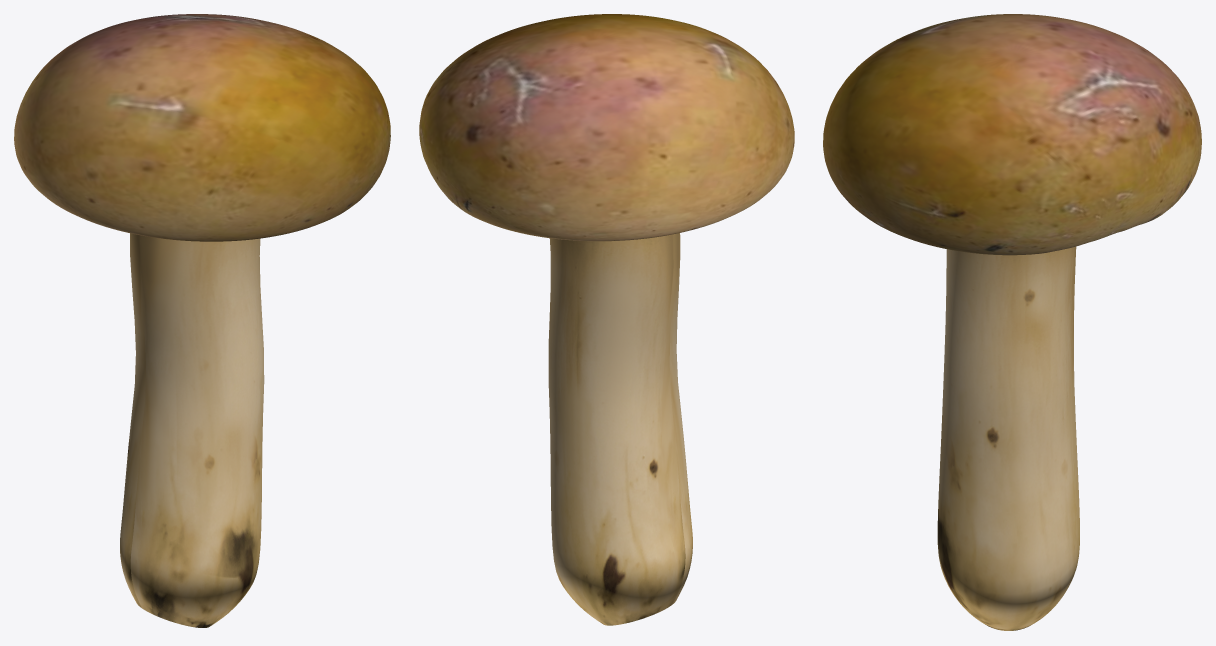
Rendered from SENE_10.fbx.
3 renders of one model, left to right at view 1: azimuth 30°, elevation 25°; view 2: azimuth 150°, elevation 25°; view 3: azimuth 270°, elevation 25°, orthographic.
Visible parts, largest first — view 1: SENE_010; view 2: SENE_010; view 3: SENE_010.
Part boxes in pixels (x1,y1,x2,y2): SENE_010: (14, 14, 390, 627); SENE_010: (419, 14, 794, 625); SENE_010: (823, 14, 1201, 630).
Bounding box in the file's own units: 36.71 × 62.05 × 36.37.
Materials: 1 (1 with a texture image).
